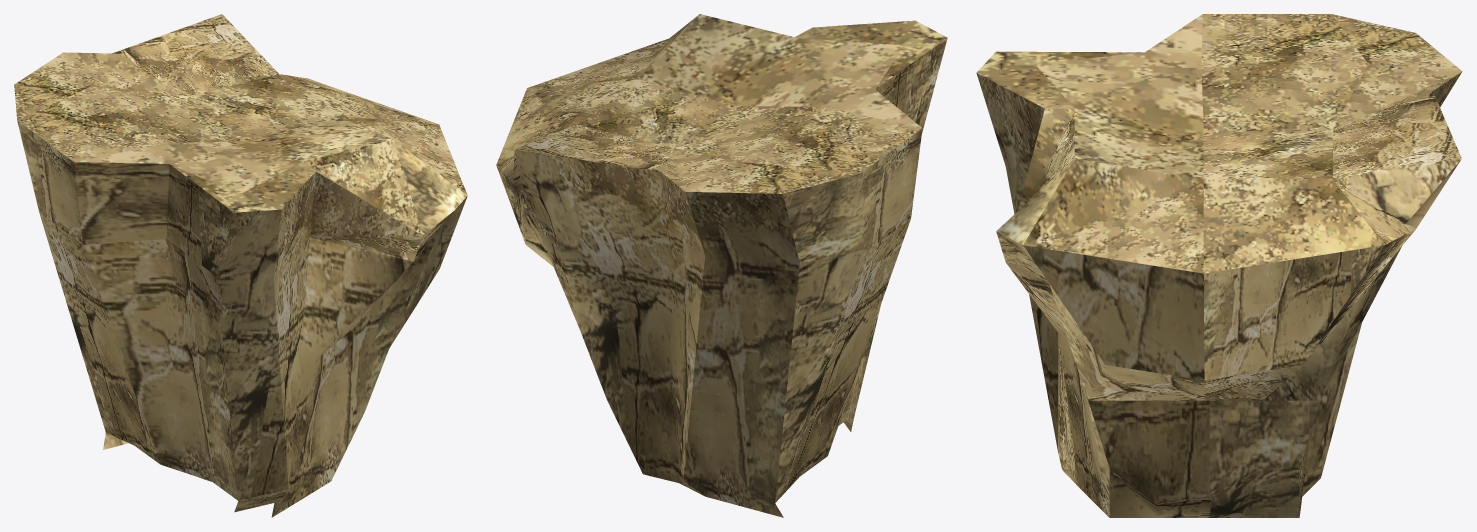
Rendered from geo_desert_03.dae.
3 views of the same model, side by side, from view 1: azimuth 30°, elevation 25°; view 2: azimuth 150°, elevation 25°; view 3: azimuth 270°, elevation 25° (orthographic). The views are drawn at different scales.
Parts seen in each view (by area): view 1: Box03; view 2: Box03; view 3: Box03.
Boxes of the visible parts, x1,y1,x2,y2 form: Box03: (14, 14, 467, 517); Box03: (496, 14, 947, 517); Box03: (976, 14, 1462, 517).
Bounding box in the file's own units: 9.82 × 10.03 × 9.
